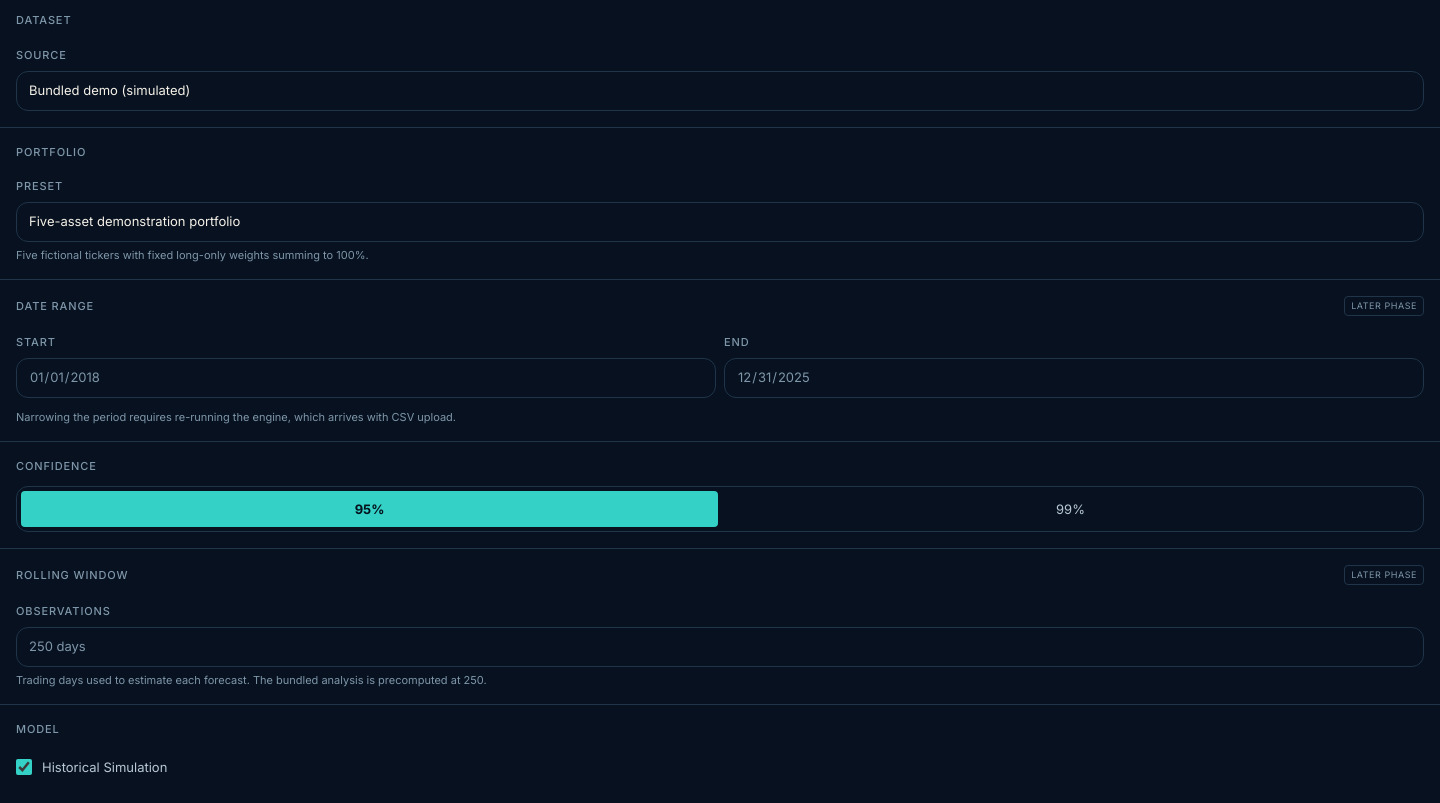
it: Model and confidence controls drive the audit table › switches the table to the other confidence level
Step 1. Click the radio button labelled "99%" → (1070, 509), box [722, 491, 1419, 527]
(page scrolled)
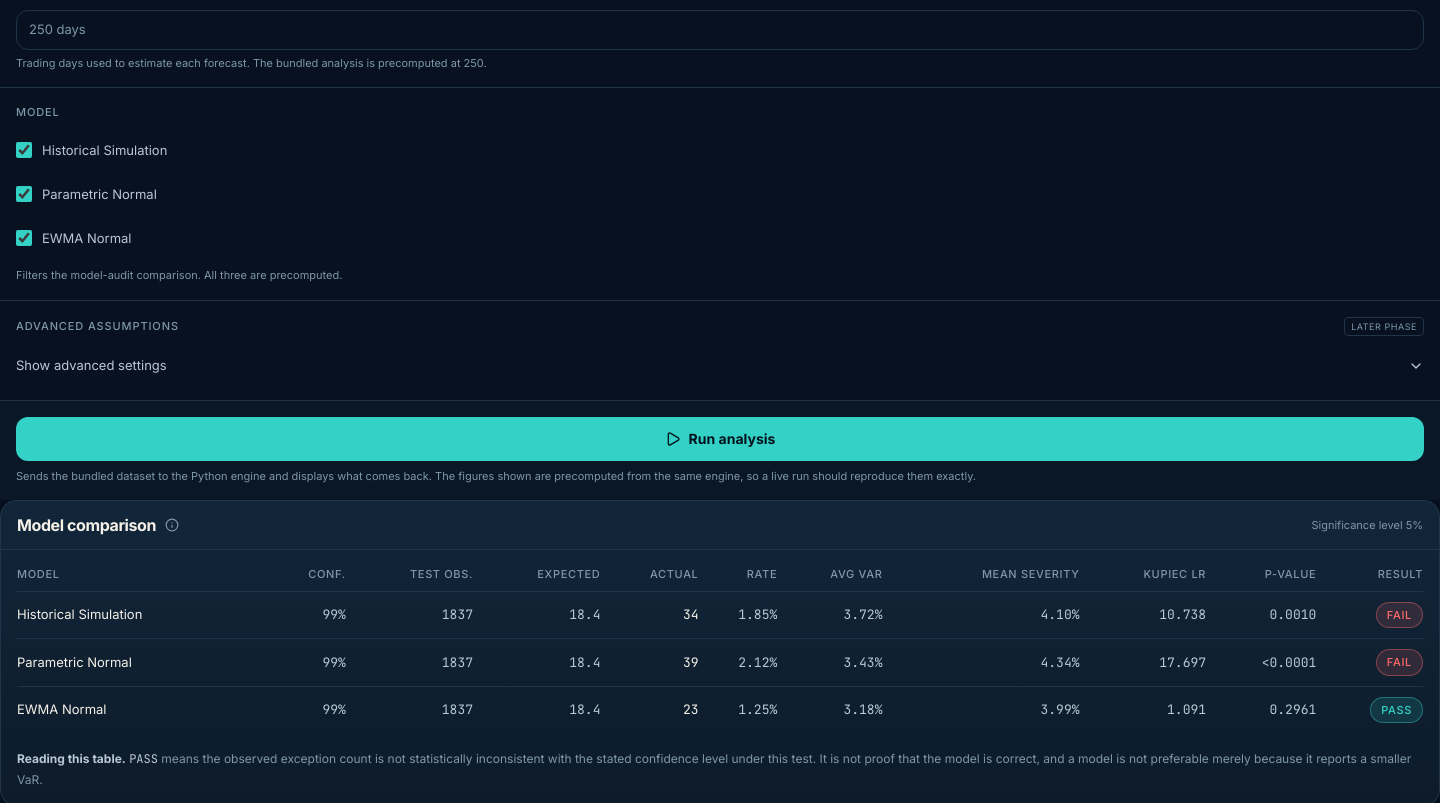
Expected: the table shows "99%", [322, 606, 346, 623]
